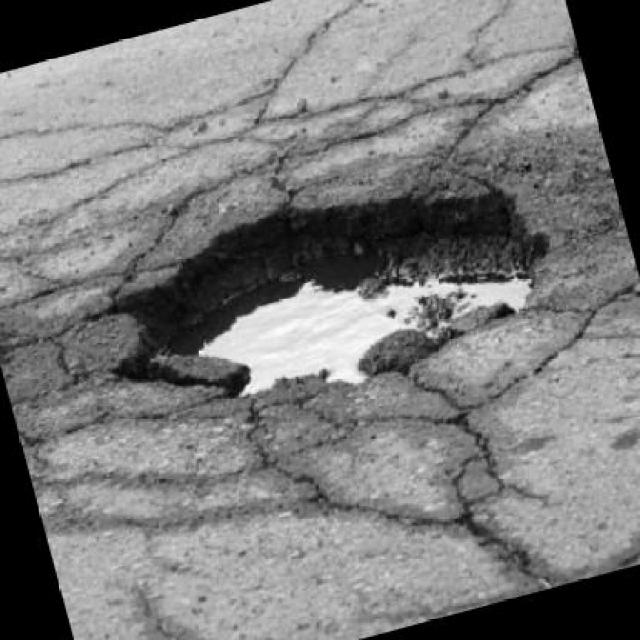pothole: (76, 132, 578, 459)
